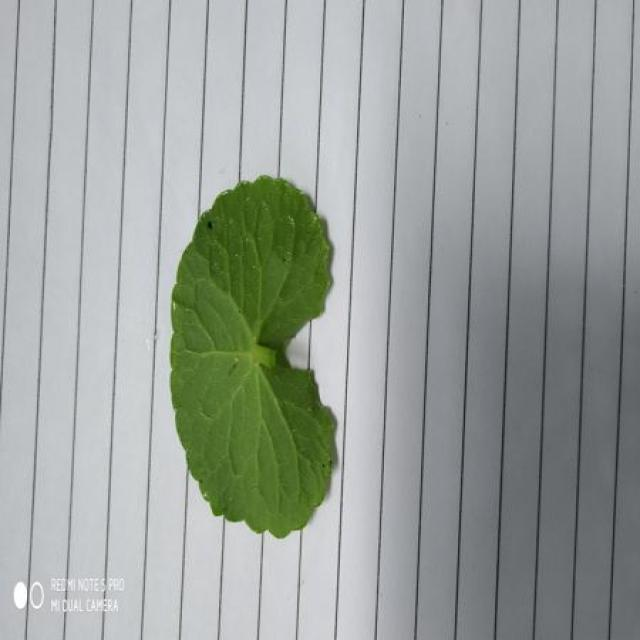bhrami: (170, 176, 335, 538)
